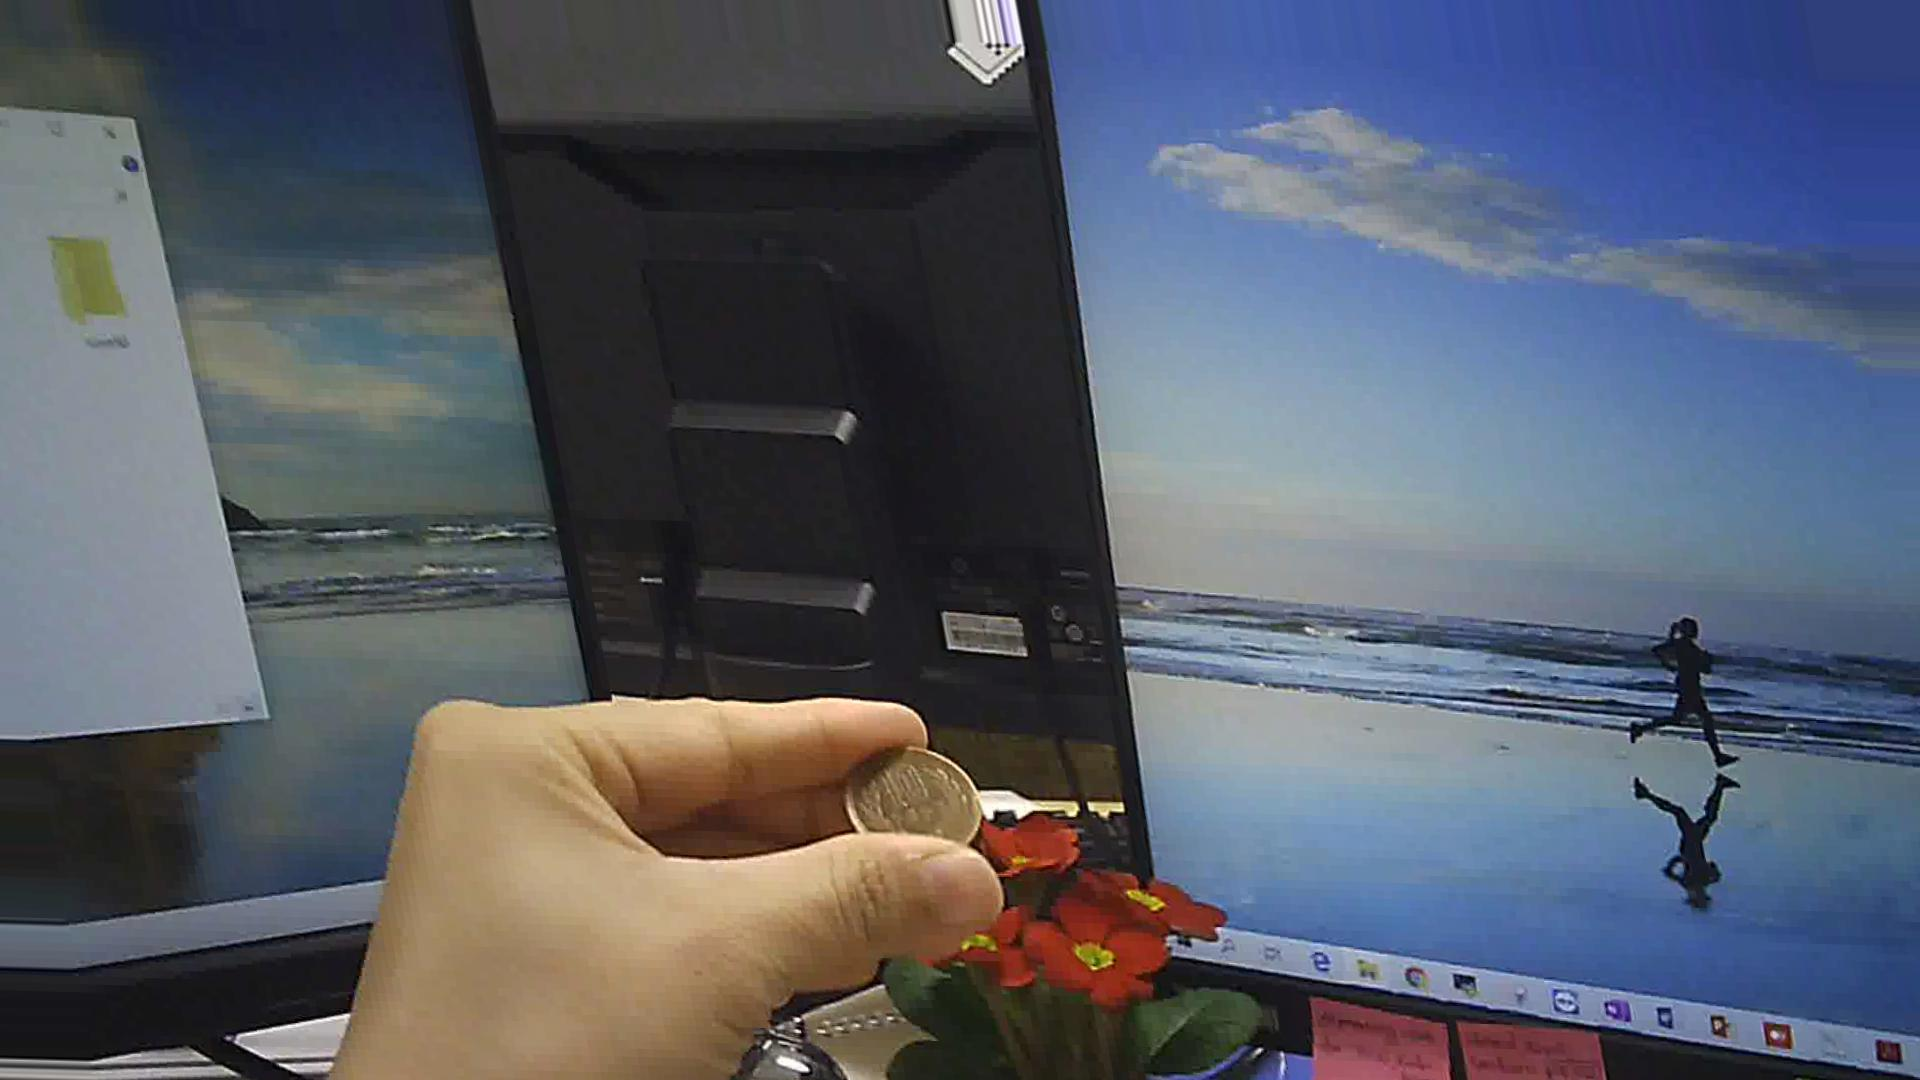10 Yen: (832, 738, 996, 868)
